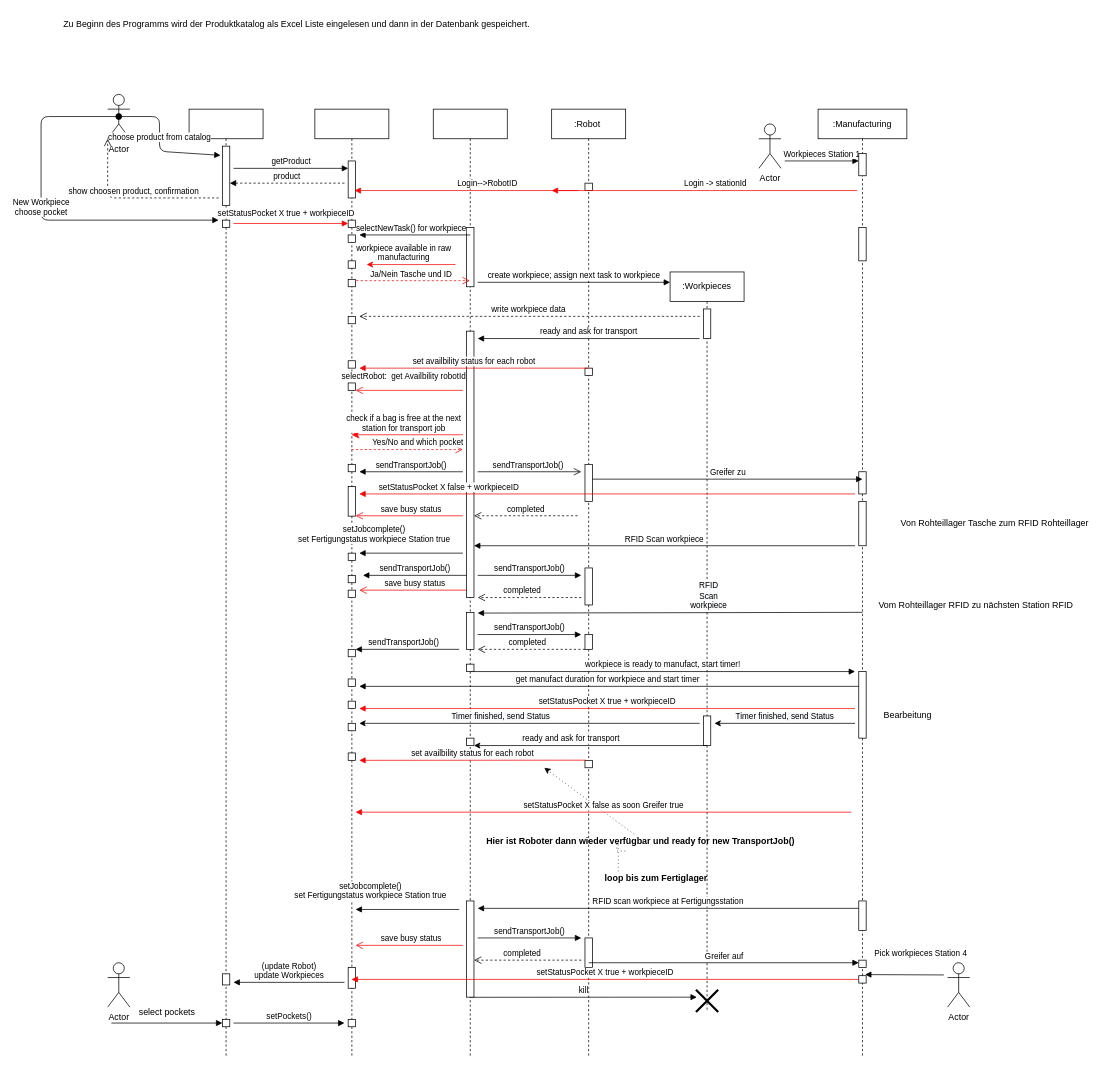
The diagram is 1112 pixels wide and 1069 high, and some of its shapes have lost their labels. The shapes that lost their labels are listed below. From the top down, each one's box as (x1, y1, x2, y2) in pixels, then its label:
(188, 108, 263, 1056): :VisualDataHandler
(314, 108, 389, 1056): :Database/ Broker
(433, 108, 507, 1056): :Supervisor
